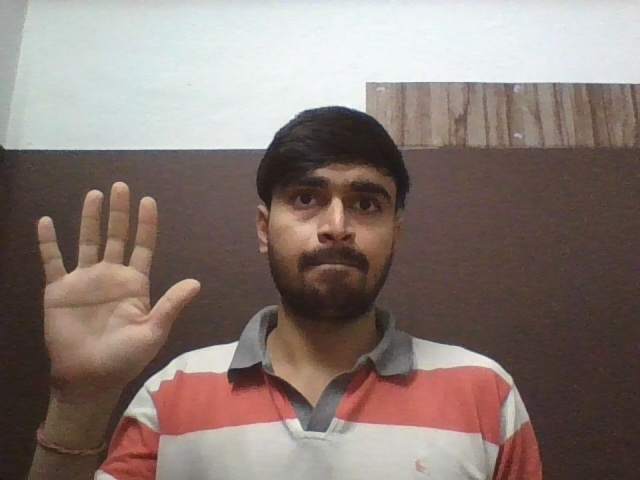Hello: (36, 181, 200, 397)
